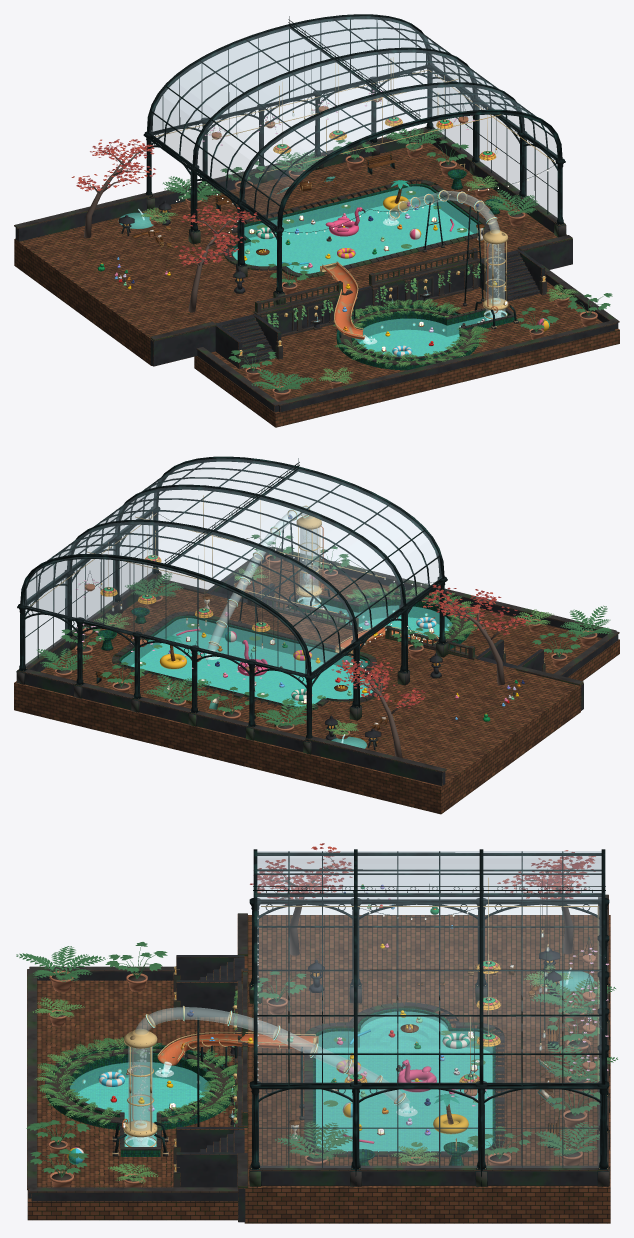
Rendered from chunk_01_core.glb.
3 views of the same model, one above another, from view 1: azimuth 30°, elevation 25°; view 2: azimuth 150°, elevation 25°; view 3: azimuth 270°, elevation 25° (orthographic). The views are drawn at different scales.
Parts seen in each view (by area): view 1: L01_Sanctuary_Terraces_Masonry, L02_Conservatory_Glass_Vault, L02_Conservatory_Verdigris_Iron, L01_Emerald_Mosaic_Pools, L04_Rippling_Sanctuary_Water, L05_Tropical_Monstera_Palms, L01_Pool_Coping_Blocks, L05_Grotto_Pinnate_Ferns, L05_Crimson_Maples_Leaves, L05_Terracotta_Pots_Trunks, L04_Siphon_Bell_And_ReturnTube, L04_Siphon_Lift_Machinery (+7 smaller); view 2: L01_Sanctuary_Terraces_Masonry, L02_Conservatory_Glass_Vault, L02_Conservatory_Verdigris_Iron, L01_Emerald_Mosaic_Pools, L04_Rippling_Sanctuary_Water, L05_Tropical_Monstera_Palms, L01_Pool_Coping_Blocks, L05_Crimson_Maples_Leaves, L05_Terracotta_Pots_Trunks, L04_Siphon_Bell_And_ReturnTube, L04_Siphon_Lift_Machinery, L05_Sanctuary_Vignette_Props (+7 smaller); view 3: L01_Sanctuary_Terraces_Masonry, L02_Conservatory_Glass_Vault, L02_Conservatory_Verdigris_Iron, L01_Emerald_Mosaic_Pools, L04_Rippling_Sanctuary_Water, L05_Tropical_Monstera_Palms, L01_Pool_Coping_Blocks, L04_Siphon_Bell_And_ReturnTube, L05_Grotto_Pinnate_Ferns, L05_Terracotta_Pots_Trunks, L05_Crimson_Maples_Leaves, L05_Pool_Toys_Inflatables_Lanterns (+7 smaller).
Boxes of the visible parts, x1,y1,x2,y2 form: L01_Sanctuary_Terraces_Masonry: (14,127,619,427); L02_Conservatory_Glass_Vault: (149,16,557,225); L02_Conservatory_Verdigris_Iron: (143,14,566,304); L01_Emerald_Mosaic_Pools: (231,183,514,370); L04_Rippling_Sanctuary_Water: (118,186,504,356); L05_Tropical_Monstera_Palms: (140,92,612,391); L01_Pool_Coping_Blocks: (223,179,516,365); L05_Grotto_Pinnate_Ferns: (333,299,490,367); L05_Crimson_Maples_Leaves: (71,139,261,265); L05_Terracotta_Pots_Trunks: (149,82,597,401); L04_Siphon_Bell_And_ReturnTube: (388,191,506,318); L04_Siphon_Lift_Machinery: (389,190,519,329); L01_Sanctuary_Terraces_Masonry: (14,546,619,814); L02_Conservatory_Glass_Vault: (23,458,441,674); L02_Conservatory_Verdigris_Iron: (16,456,448,754); L01_Emerald_Mosaic_Pools: (119,592,470,708); L04_Rippling_Sanctuary_Water: (121,585,452,748); L05_Tropical_Monstera_Palms: (37,532,613,735); L01_Pool_Coping_Blocks: (112,590,471,710); L05_Crimson_Maples_Leaves: (331,584,532,708); L05_Terracotta_Pots_Trunks: (54,554,597,741); L04_Siphon_Bell_And_ReturnTube: (208,506,319,650); L04_Siphon_Lift_Machinery: (208,505,330,646); L05_Sanctuary_Vignette_Props: (95,595,442,749); L01_Sanctuary_Terraces_Masonry: (27,894,610,1223); L02_Conservatory_Glass_Vault: (257,851,601,1167); L02_Conservatory_Verdigris_Iron: (249,849,609,1186); L01_Emerald_Mosaic_Pools: (46,1008,495,1156); L04_Rippling_Sanctuary_Water: (70,967,593,1151); L05_Tropical_Monstera_Palms: (16,942,617,1183); L01_Pool_Coping_Blocks: (45,1002,504,1157); L04_Siphon_Bell_And_ReturnTube: (126,1007,409,1146); L05_Grotto_Pinnate_Ferns: (34,1037,235,1125); L05_Terracotta_Pots_Trunks: (48,937,595,1187); L05_Crimson_Maples_Leaves: (250,843,595,904); L05_Pool_Toys_Inflatables_Lanterns: (67,1024,478,1164).
Bounding box in the file's own units: 36.15 × 16.45 × 33.78.
91 materials, 46 textured.
